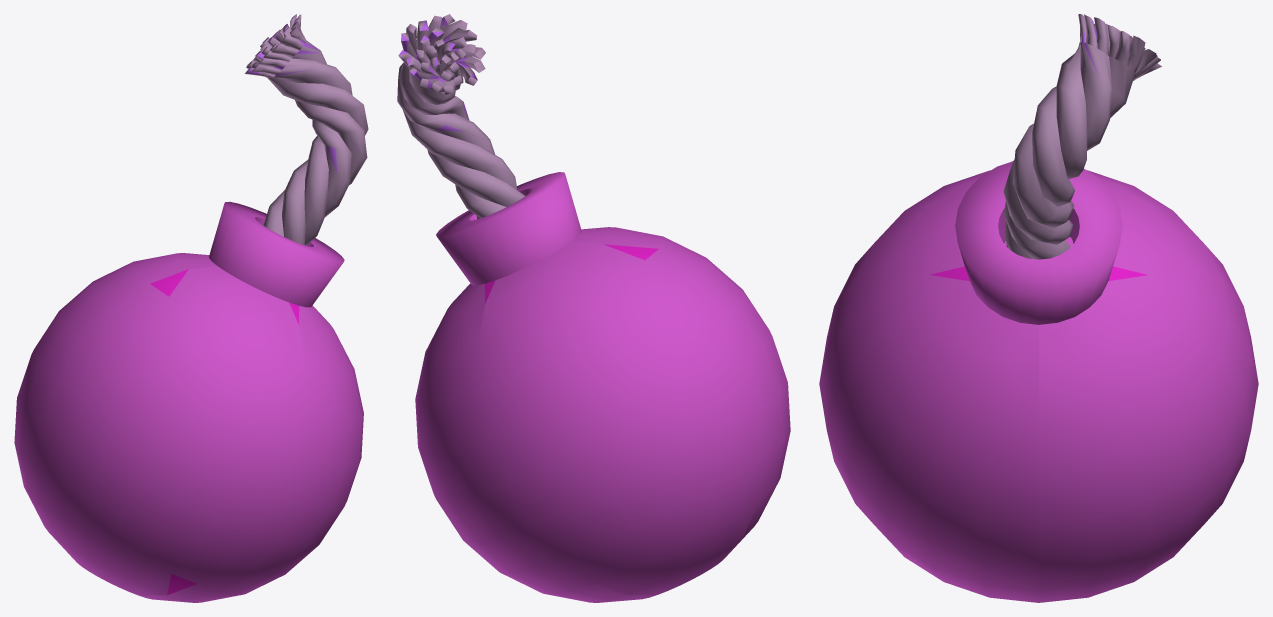
The model's file is superb.fbx.
3 renders of one model, left to right at view 1: azimuth 30°, elevation 25°; view 2: azimuth 150°, elevation 25°; view 3: azimuth 270°, elevation 25°, orthographic. The views are drawn at different scales.
Visible parts, largest first — view 1: 000-0-0, 001-0-1; view 2: 000-0-0, 001-0-1; view 3: 000-0-0, 001-0-1.
Boxes of the visible parts, box(x1,y1,x2,y2) form: 000-0-0: box(14, 201, 363, 602); 001-0-1: box(244, 14, 368, 245); 000-0-0: box(415, 172, 790, 602); 001-0-1: box(397, 14, 525, 219); 000-0-0: box(819, 161, 1258, 602); 001-0-1: box(1003, 14, 1161, 259).
Bounding box in the file's own units: 31.52 × 46.55 × 28.7.
